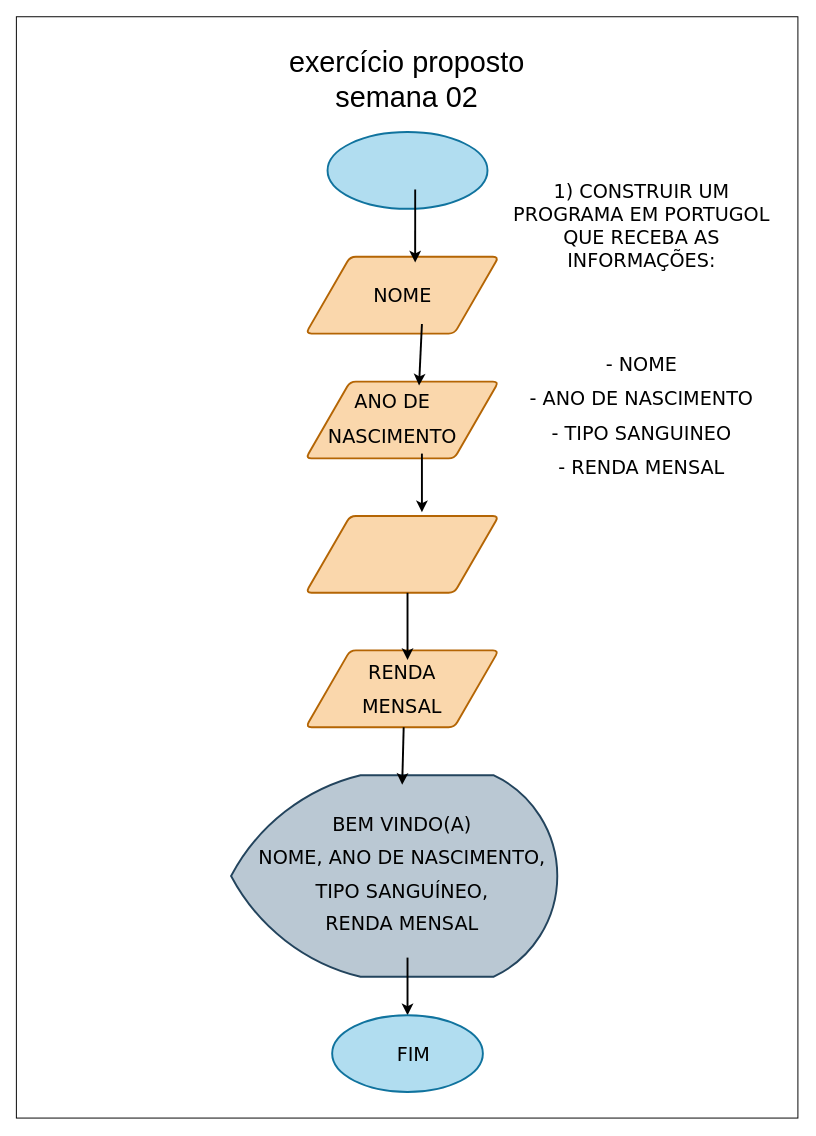
Some shapes in this 816 by 1136 pixel diagram are drawn without their labels. Here are the shapes that lost their labels. From the top down, the centre of each, then its label:
point 407,170: INICIO
point 401,554: TIPO SANGUINEO
